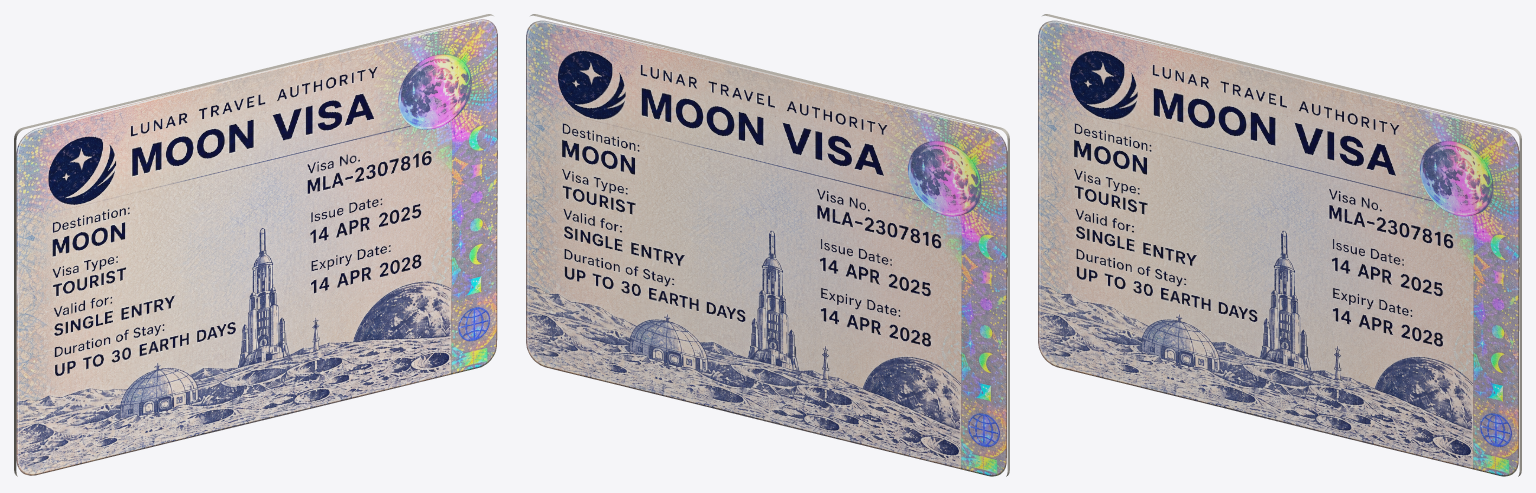
3 renders of one model, left to right at view 1: azimuth 30°, elevation 25°; view 2: azimuth 150°, elevation 25°; view 3: azimuth 330°, elevation 25°, orthographic.
Parts seen in each view (by area): view 1: Moon Visa card; view 2: Moon Visa card; view 3: Moon Visa card.
Boxes of the visible parts, x1,y1,x2,y2 form: Moon Visa card: (14,14,497,476); Moon Visa card: (526,14,1009,476); Moon Visa card: (1038,14,1521,476).
Bounding box in the file's own units: 1.44 × 1 × 0.012.
Materials: 2 (1 with a texture image).
